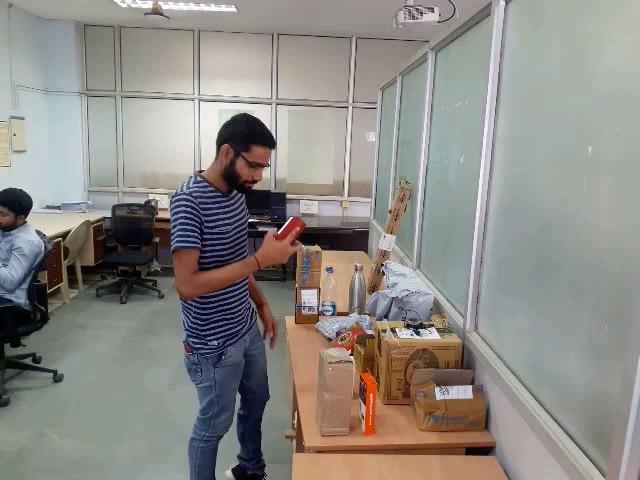Normal: (122, 84, 353, 343)
